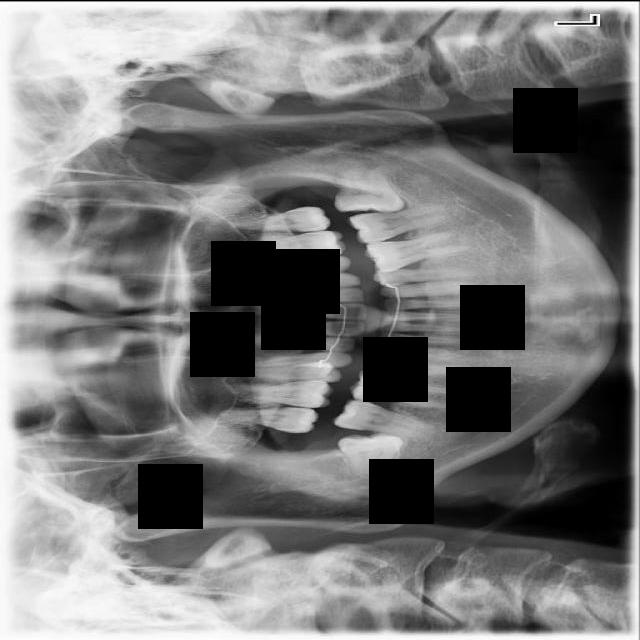73: (548, 44, 554, 50)
BioHorizons Implant: (225, 203, 331, 239)
Biomet 3i Implant: (335, 163, 406, 214)
Blue Sky Bio Implant: (346, 201, 455, 246)
Caries: (216, 402, 319, 433)
Implant: (332, 395, 441, 442)
Keystone Dental Implant: (337, 431, 405, 480)
